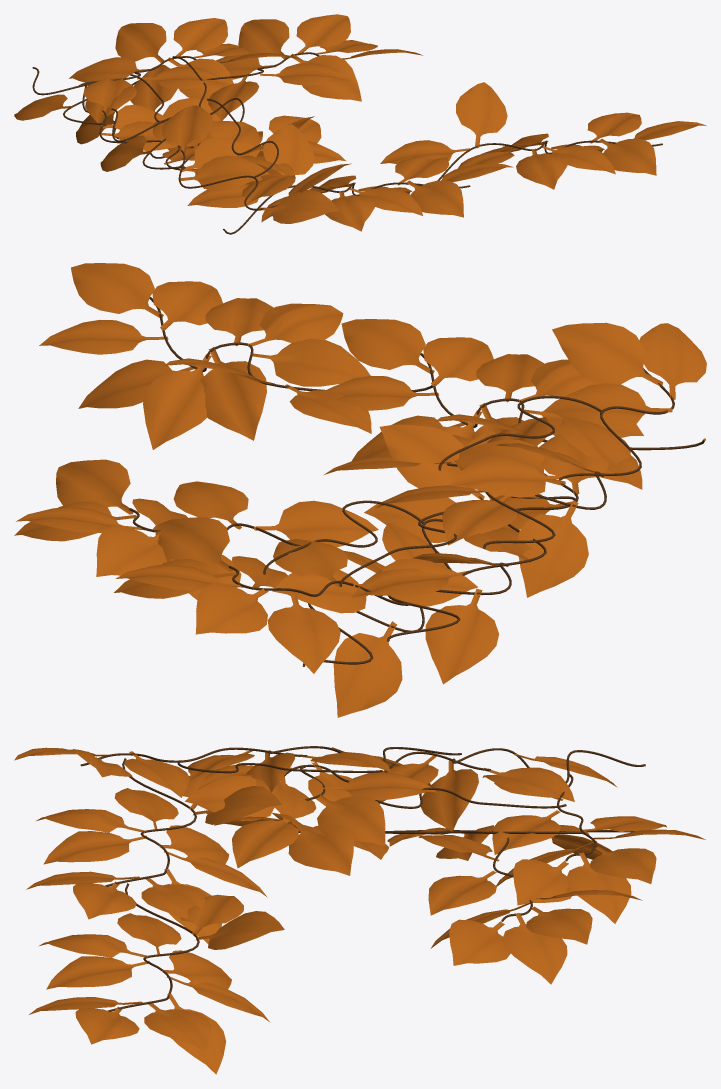
The model's file is brown_vines_large.fbx.
3 renders of one model, top to bottom at view 1: azimuth 30°, elevation 25°; view 2: azimuth 150°, elevation 25°; view 3: azimuth 270°, elevation 25°, orthographic. The views are drawn at different scales.
Visible parts, largest first — view 1: Vine11.001; view 2: Vine11.001; view 3: Vine11.001.
Boxes of the visible parts, x1,y1,x2,y2 form: Vine11.001: (14, 14, 706, 234); Vine11.001: (14, 263, 706, 717); Vine11.001: (14, 746, 705, 1074).
Size of the model in its own units: 2530 by 550 by 2467.
